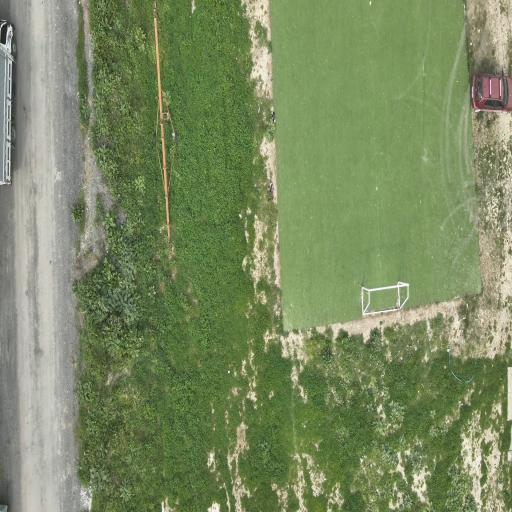car: (472, 74, 511, 112)
truck: (0, 21, 16, 184)
